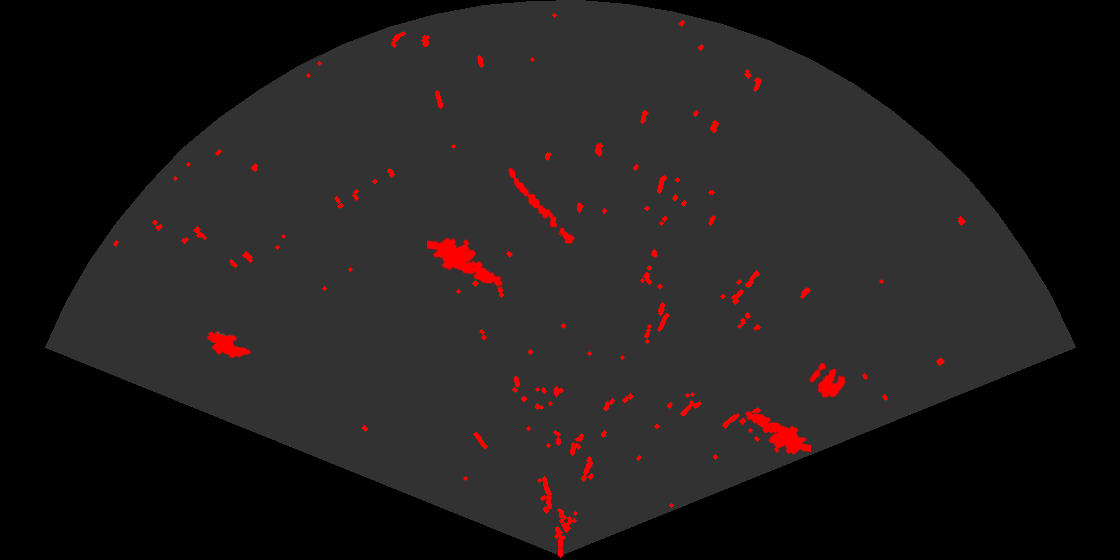AUV: (205, 330, 253, 360)
ball: (808, 361, 847, 400)
chain: (507, 166, 576, 245)
frogman: (427, 236, 504, 288), (743, 410, 811, 456)
